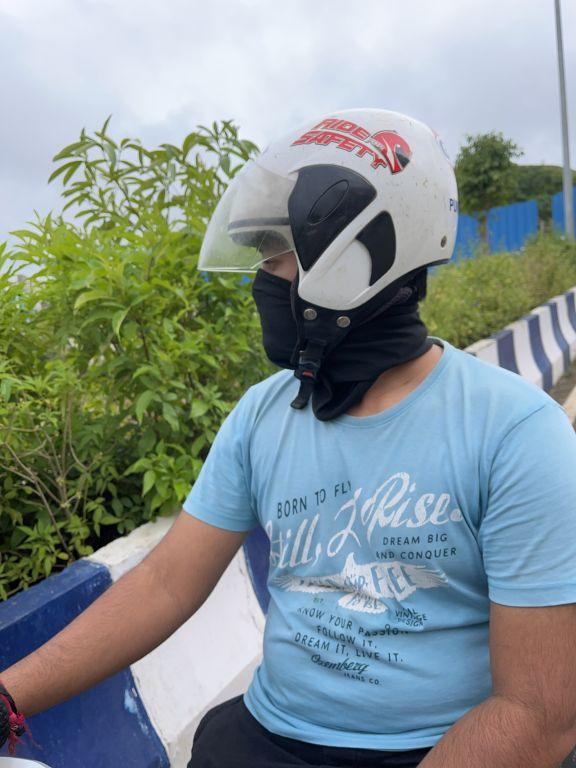helmet: (180, 84, 478, 366)
